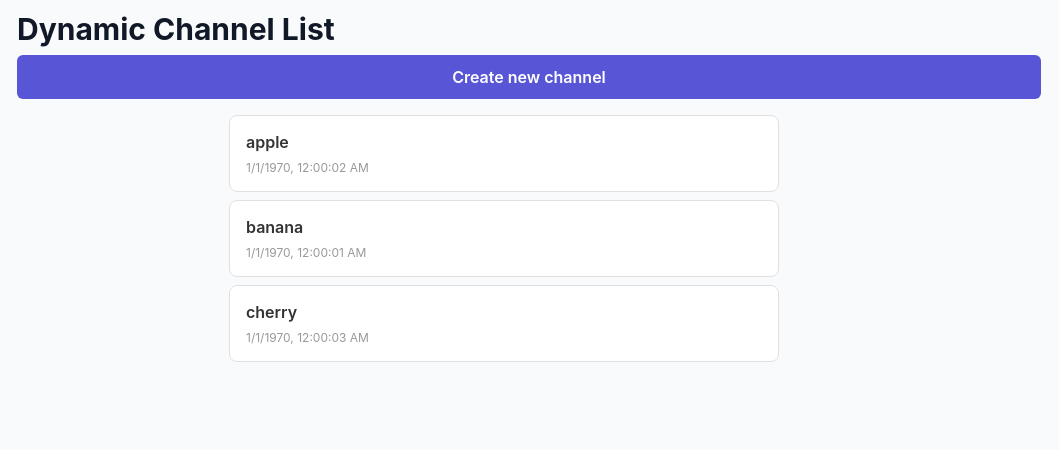
Scenario: Home Page Integration › should display error message on creation failure
Click the button "Create new channel" at (529, 77), box x1=17 y1=55 x2=1041 y2=99
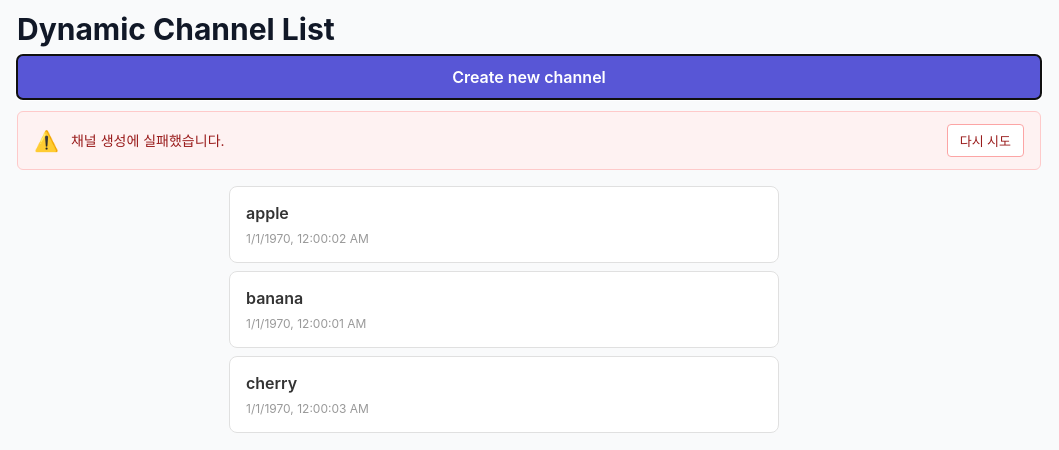
Expected: the text "채널 생성에 실패했습니다." is shown, x1=71 y1=132 x2=225 y2=149
